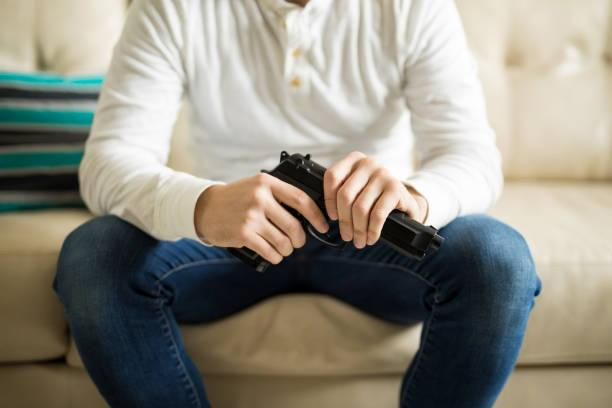weapon: (231, 148, 447, 276)
